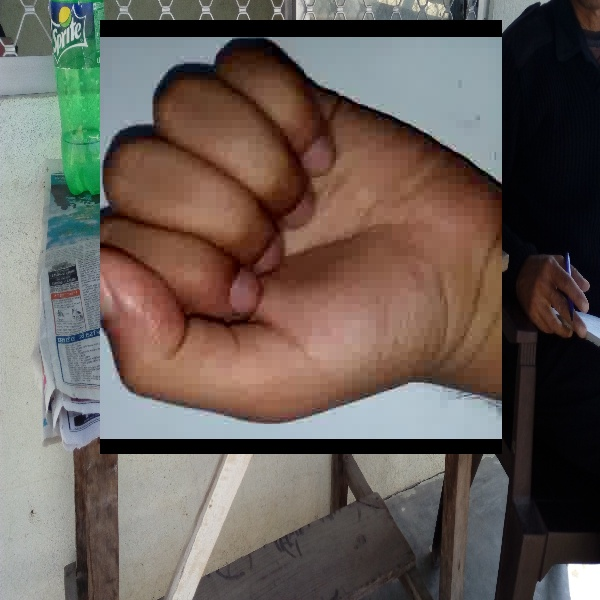A: (100, 20, 502, 454)
